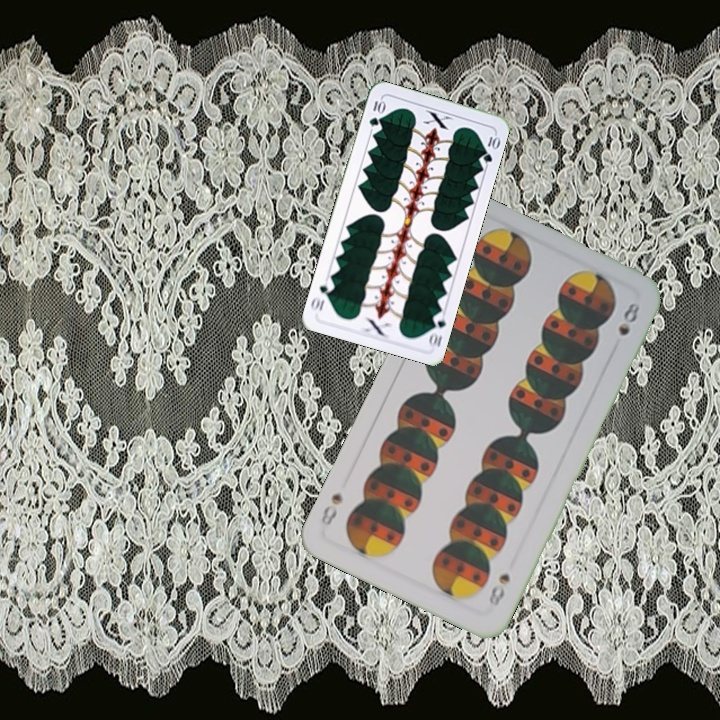G10: (425, 308, 448, 350), (365, 95, 387, 129)
S8: (484, 569, 513, 610)
